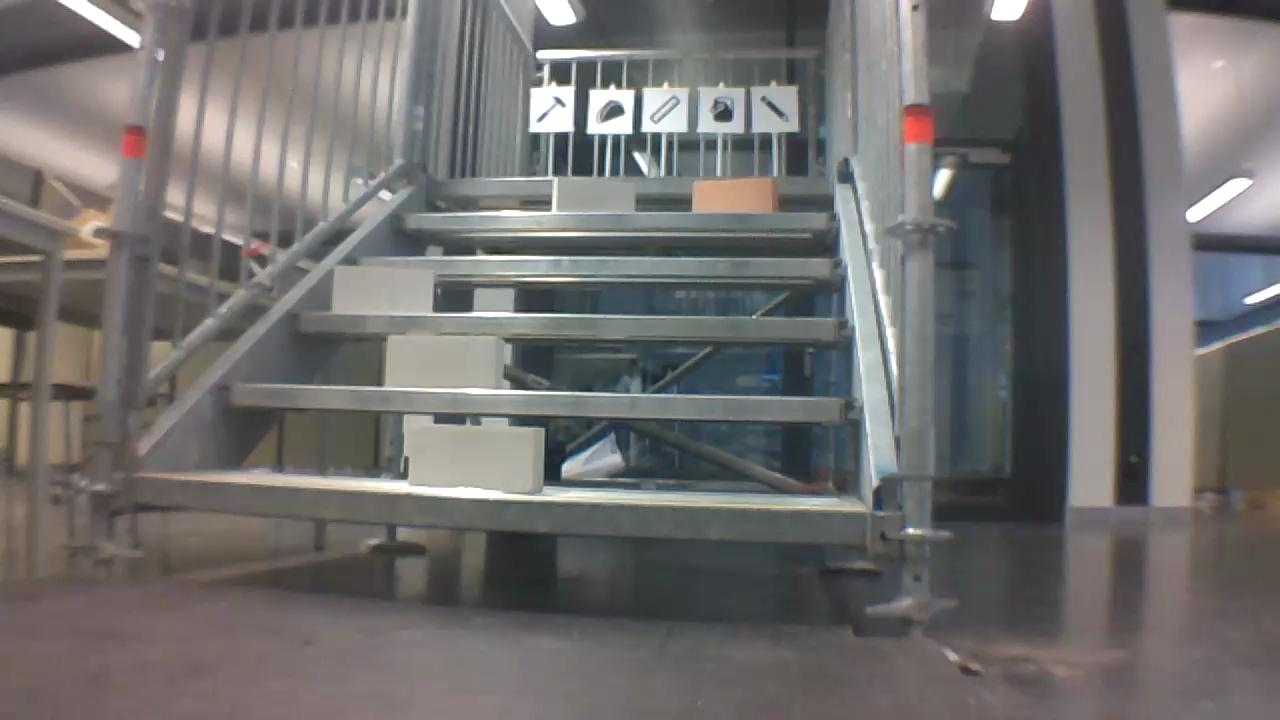brick: (411, 424, 544, 492), (389, 336, 504, 389), (334, 266, 431, 314), (694, 177, 780, 212), (551, 179, 635, 213)
bucket: (708, 92, 739, 124)
edge: (132, 474, 865, 544), (220, 384, 861, 422), (292, 314, 858, 339), (350, 255, 845, 276), (428, 176, 833, 196), (398, 213, 843, 231)
hammer: (534, 96, 567, 126)
pencil: (752, 90, 793, 125)
ruler: (646, 91, 679, 128)
stairs: (78, 5, 939, 637)
steps: (125, 171, 876, 553)
taco: (593, 96, 625, 127)
